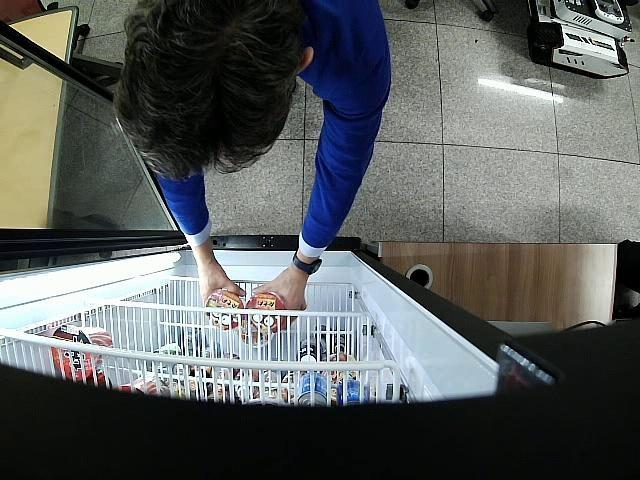06_nuguri_S: (244, 290, 286, 334), (205, 289, 245, 331)
